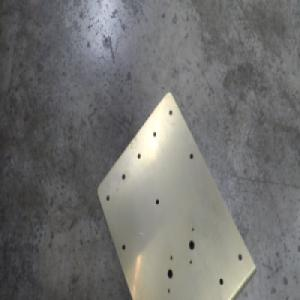MetalSheet: (94, 87, 259, 300)
